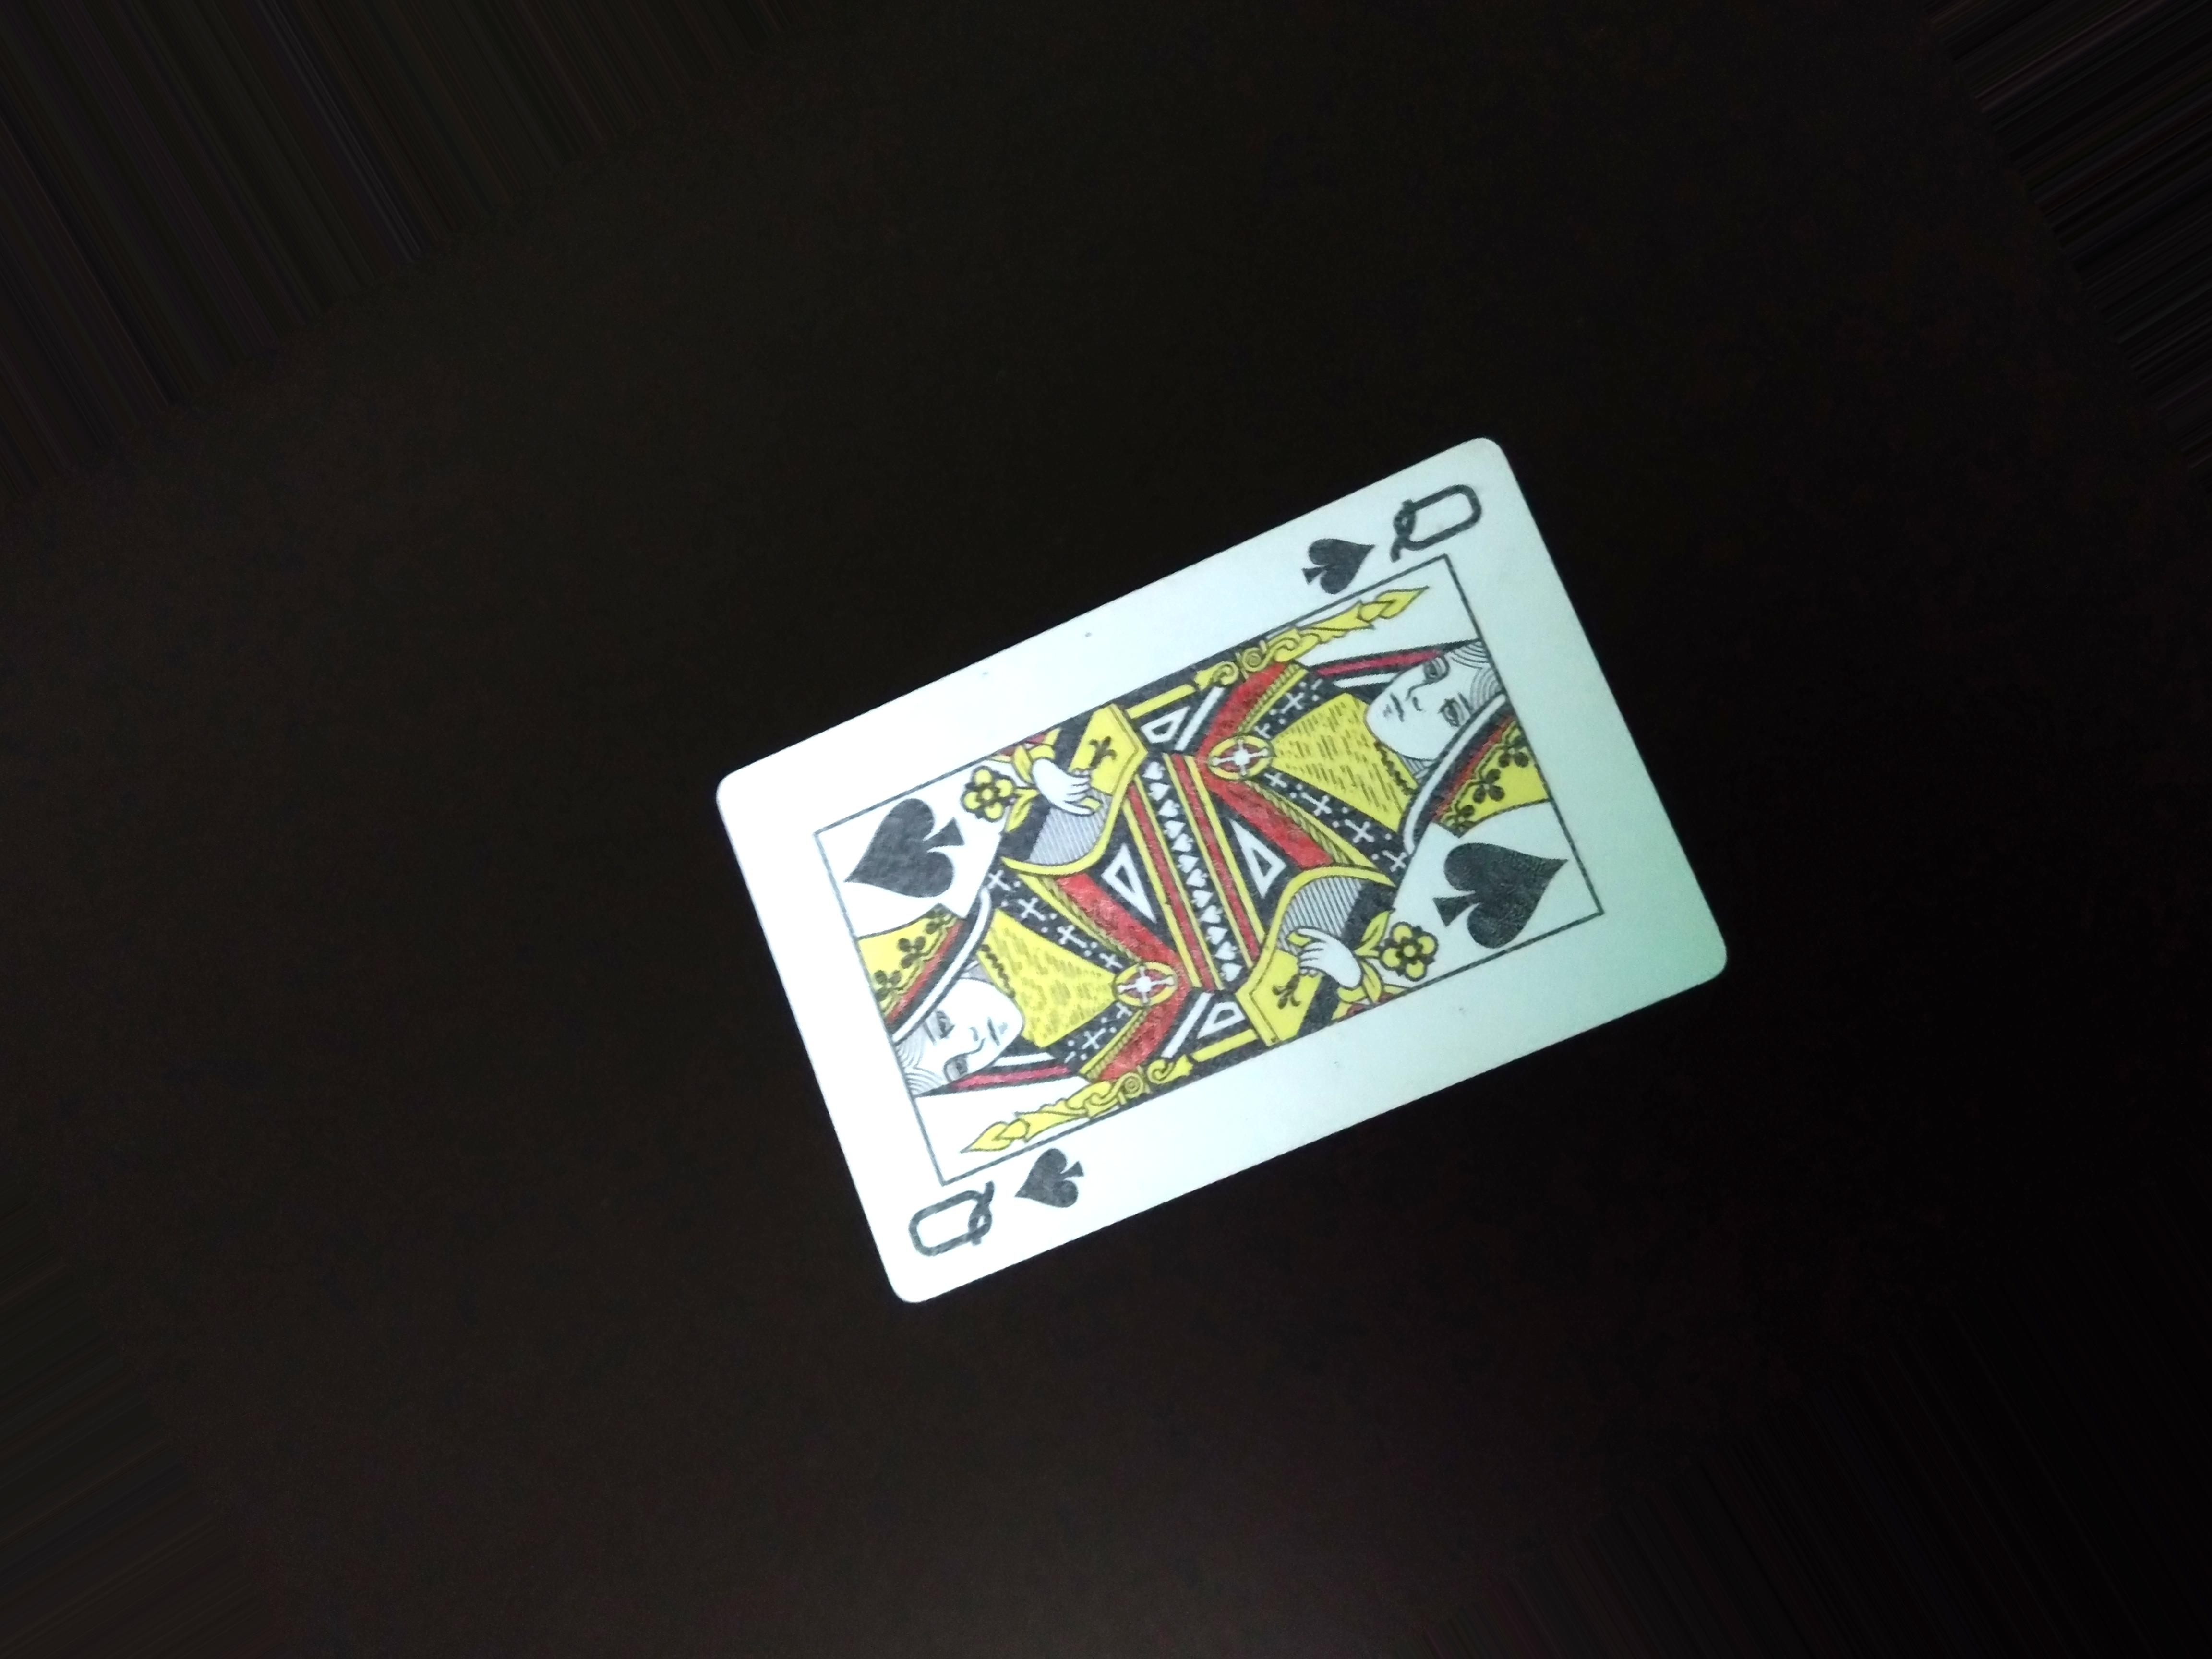QS: (902, 1143, 1089, 1270)
